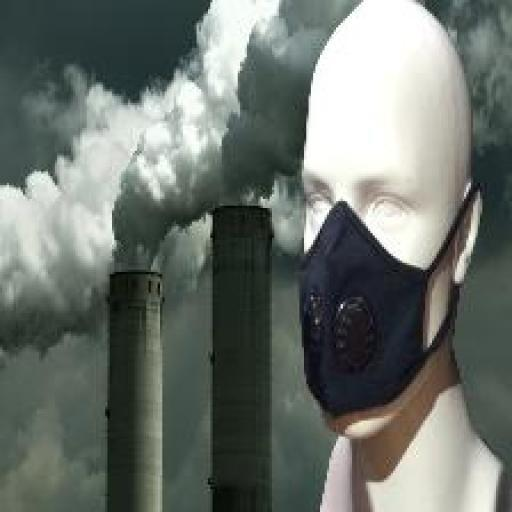mask: (298, 201, 418, 431)
